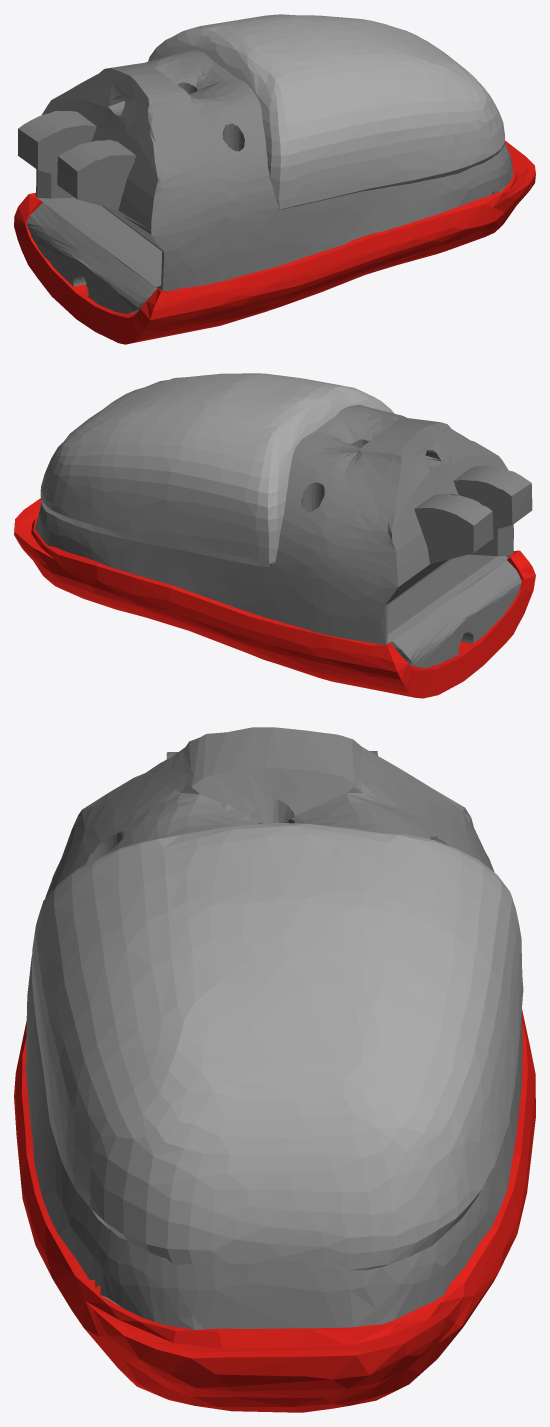
File: Thumb Distal.dae
3 renders of one model, top to bottom at view 1: azimuth 30°, elevation 25°; view 2: azimuth 150°, elevation 25°; view 3: azimuth 270°, elevation 25°, orthographic. The views are drawn at different scales.
Visible parts, largest first — view 1: Thumb_Distal_Phalanx - reduced, Thumb_Distal_Pad - reduced, Thumb_Distal_Cover - reduced; view 2: Thumb_Distal_Phalanx - reduced, Thumb_Distal_Pad - reduced, Thumb_Distal_Cover - reduced; view 3: Thumb_Distal_Pad - reduced, Thumb_Distal_Phalanx - reduced, Thumb_Distal_Cover - reduced.
Boxes of the visible parts, <box> form: Thumb_Distal_Phalanx - reduced: <box>17,50,513,313</box>; Thumb_Distal_Pad - reduced: <box>148,14,504,209</box>; Thumb_Distal_Cover - reduced: <box>14,140,535,344</box>; Thumb_Distal_Phalanx - reduced: <box>35,405,532,667</box>; Thumb_Distal_Pad - reduced: <box>40,373,394,567</box>; Thumb_Distal_Cover - reduced: <box>14,498,535,698</box>; Thumb_Distal_Pad - reduced: <box>32,822,523,1270</box>; Thumb_Distal_Phalanx - reduced: <box>25,727,522,1329</box>; Thumb_Distal_Cover - reduced: <box>14,1010,535,1412</box>.
Bounding box in the file's own units: 0.0385 × 0.0208 × 0.019.
